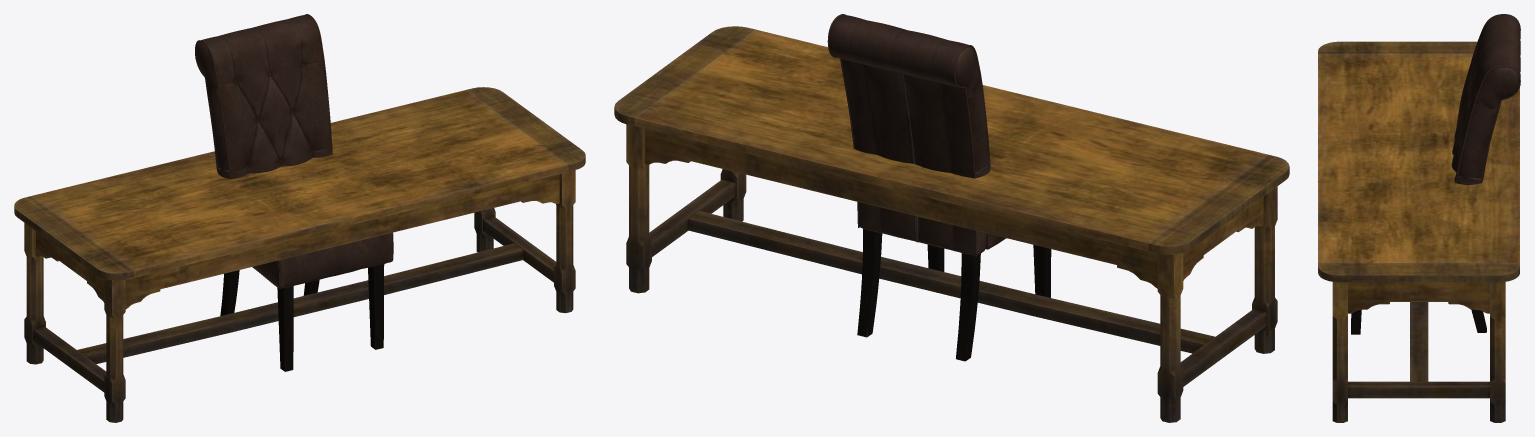
The model's file is boardroom.glb.
The picture shows the model from 3 angles, left to right: view 1: azimuth 30°, elevation 25°; view 2: azimuth 150°, elevation 25°; view 3: azimuth 270°, elevation 25°; orthographic projection. The views are drawn at different scales.
Parts seen in each view (by area): view 1: Table, Chair; view 2: Table, Chair; view 3: Table, Chair.
Part boxes in pixels (left/top/right/bottom): Table: left=14, top=87, right=585, bottom=422; Chair: left=195, top=14, right=393, bottom=371; Table: left=614, top=26, right=1289, bottom=422; Chair: left=827, top=14, right=1051, bottom=361; Table: left=1318, top=41, right=1519, bottom=422; Chair: left=1351, top=14, right=1520, bottom=334.
Bounding box in the file's own units: 1.8 × 0.9747 × 0.6597.
Materials: 2 (2 with a texture image).
